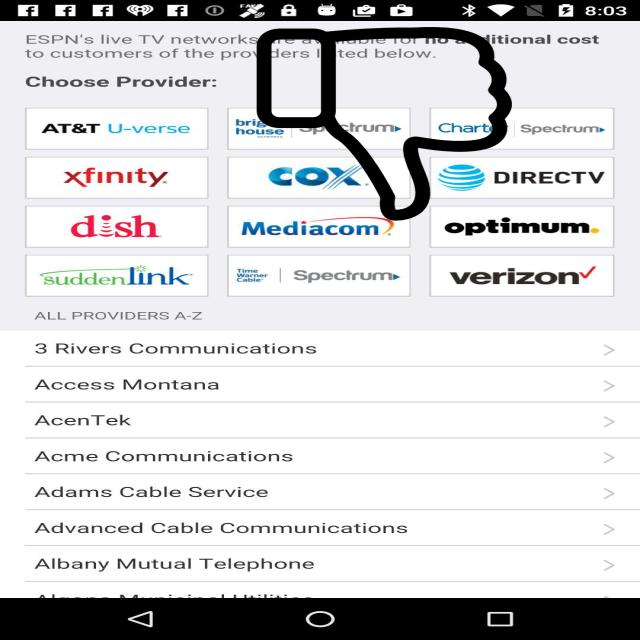obstruction: (253, 27, 516, 221)
